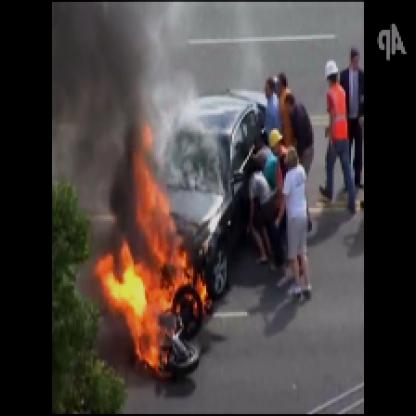Fire: (97, 119, 217, 377)
Smoke: (58, 2, 154, 197)
